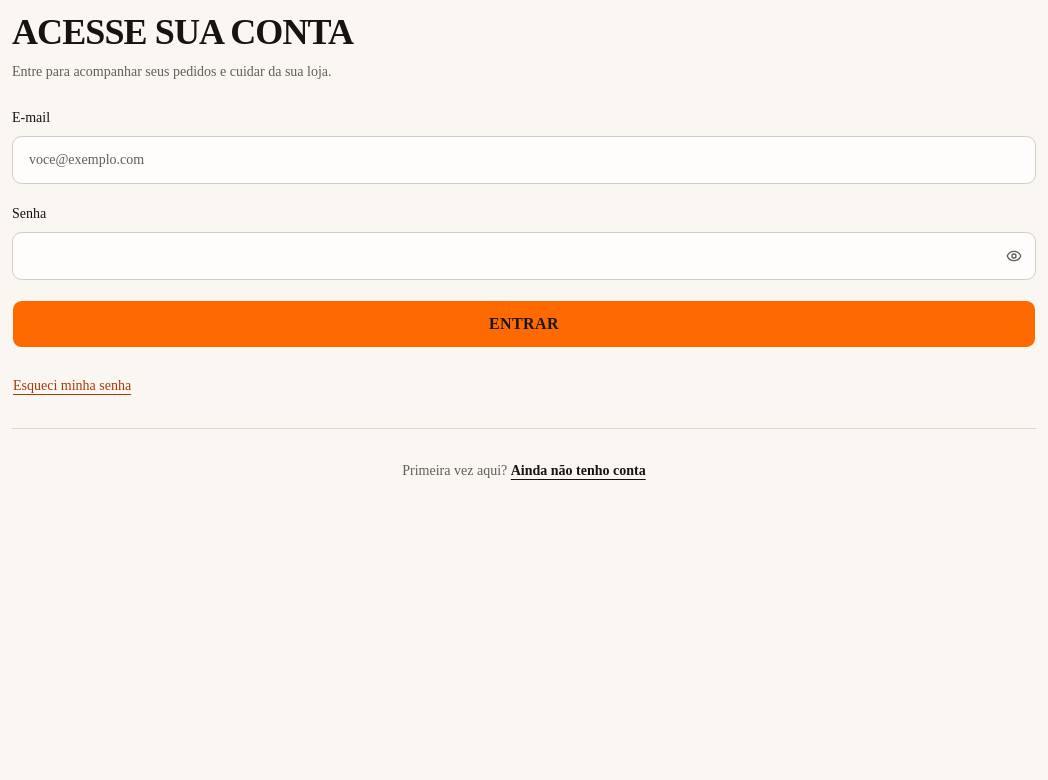
does not offer to resend the confirmation before a sign-in error, nor after a wrong password
Type "unknown@example.test" into the field labelled "E-mail" at (524, 160), box [12, 136, 1036, 184]
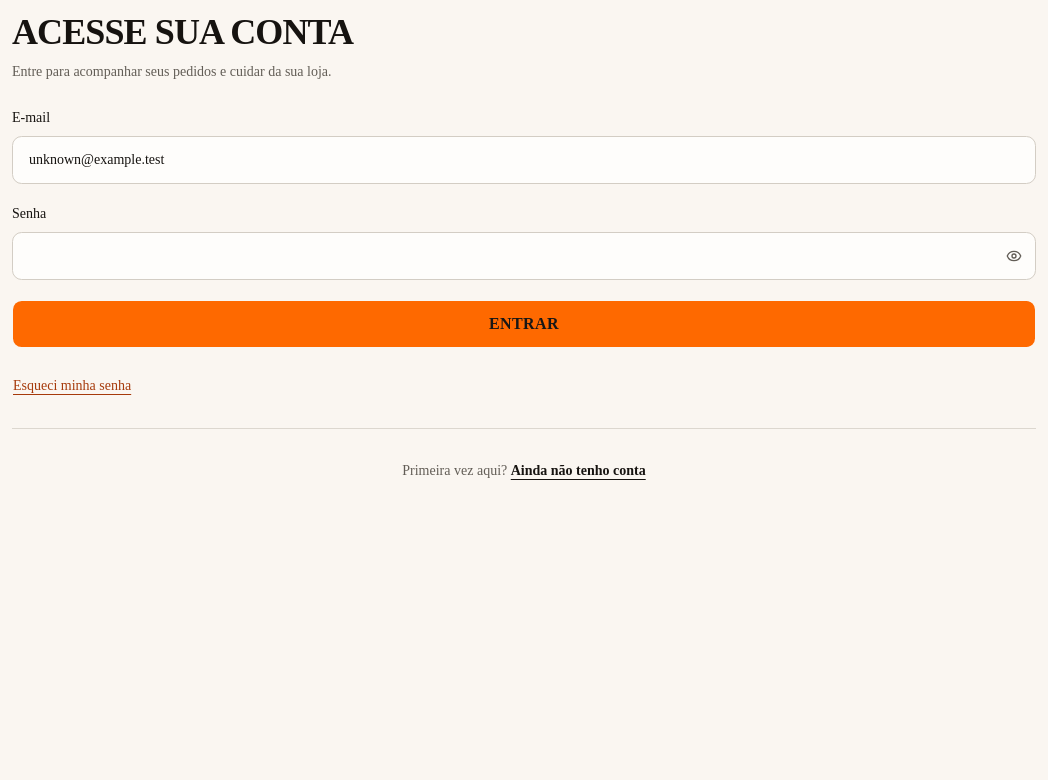
Type "wrong-password" into the password field labelled "Senha" at (524, 256), box [12, 232, 1036, 280]
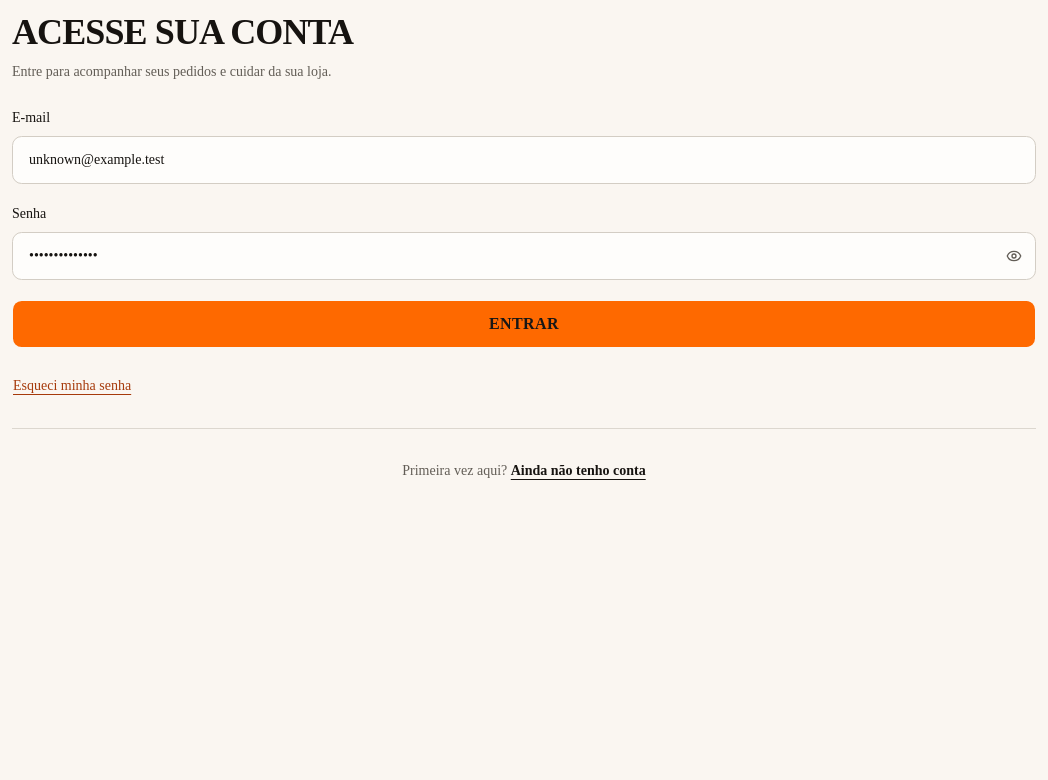
Click the button "Entrar" at (524, 324), box [12, 300, 1036, 348]
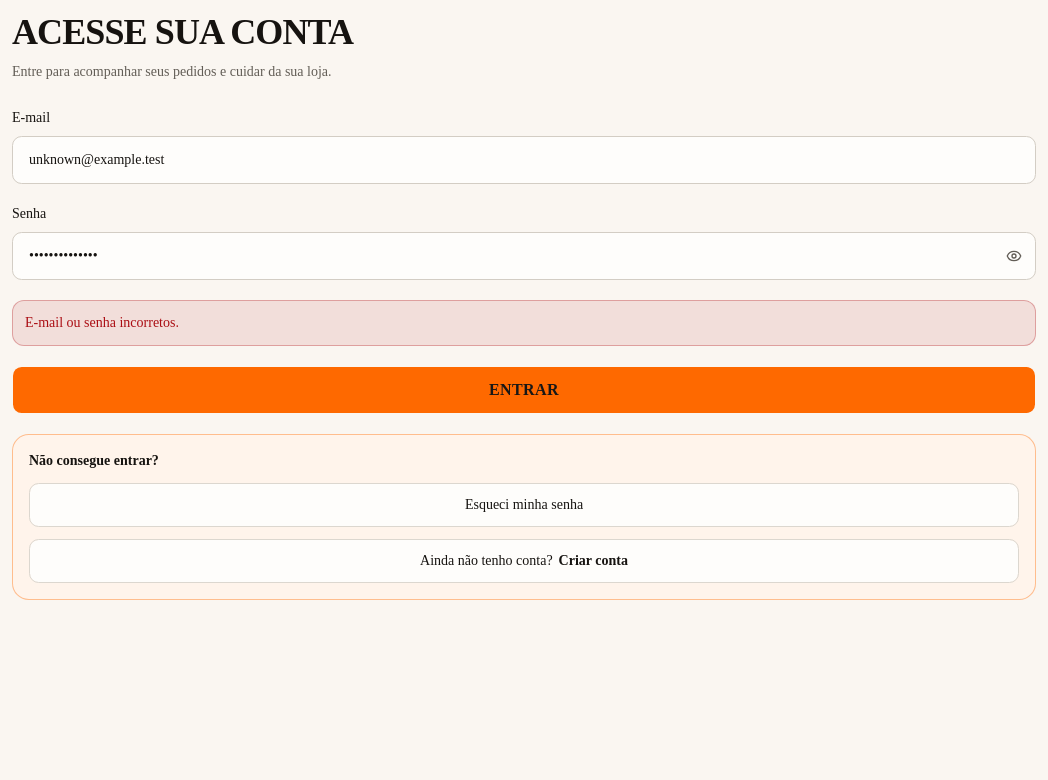
Check: the message reads "E-mail ou senha incorretos.", box [25, 315, 179, 330]
